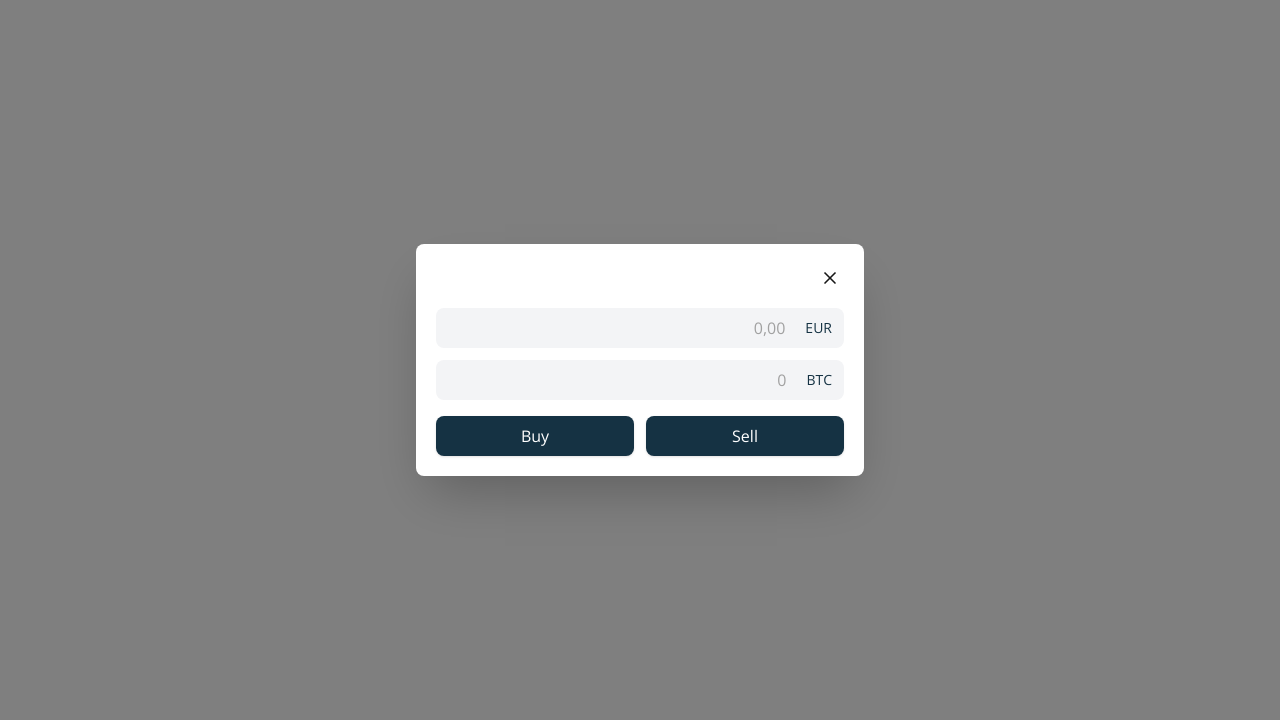
TradeModal › typing EUR syncs BTC using the exchange rate
This screenshot has width=1280, height=720.
Type "1000" into the field with placeholder "0,00" at (615, 328), box [436,308,793,348]
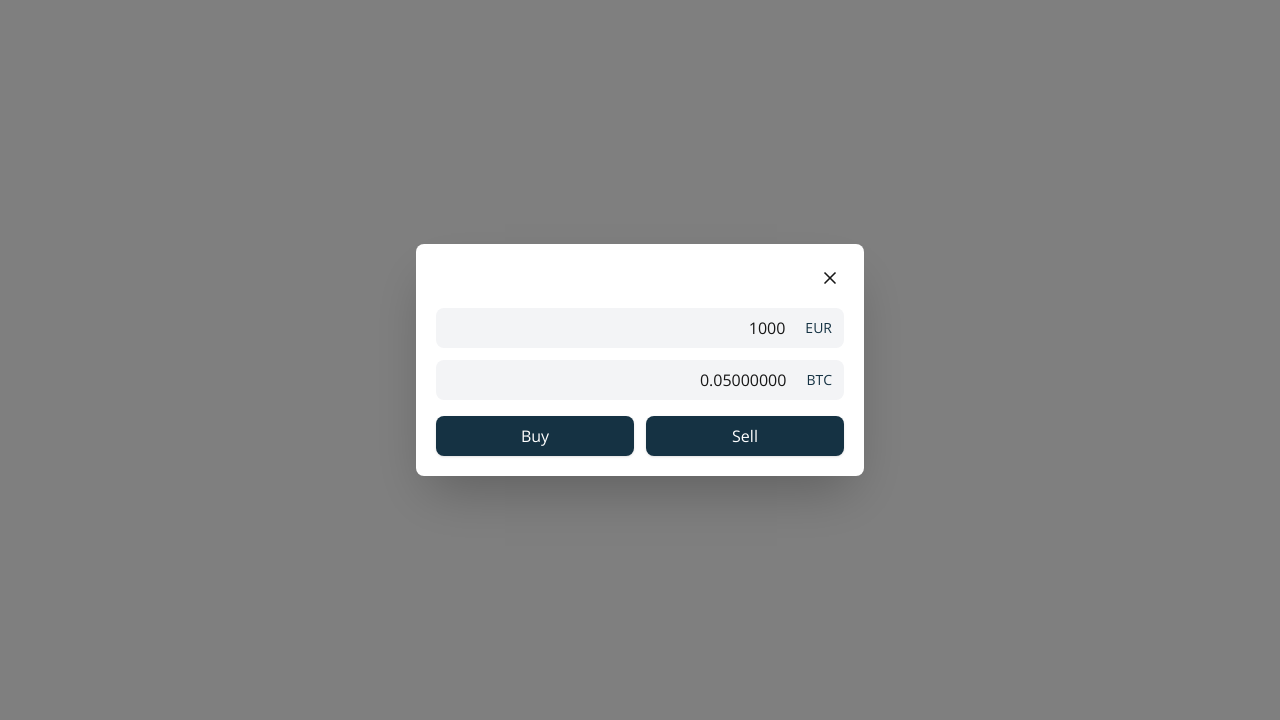
Check: the field next to "BTC" holds "0.05000000", box [436,360,794,400]
